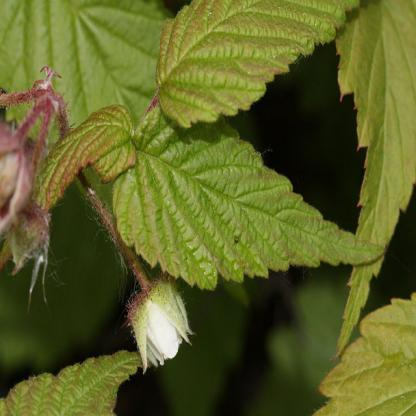Raspberry leaf: (107, 107, 395, 279), (151, 1, 364, 129), (30, 100, 127, 210)
